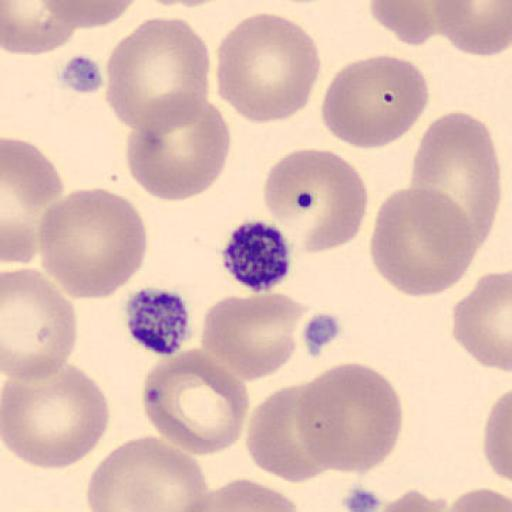Platelet: (218, 217, 293, 294), (122, 286, 195, 358)
RBC: (408, 109, 502, 252), (103, 15, 211, 135), (36, 186, 149, 300), (370, 183, 479, 298), (296, 360, 404, 475), (139, 346, 251, 456), (215, 12, 323, 126), (1, 362, 111, 470), (261, 147, 370, 255), (125, 92, 232, 202), (320, 53, 430, 150), (86, 434, 210, 512), (200, 292, 304, 382), (245, 382, 335, 484), (2, 267, 78, 382), (1, 135, 64, 268), (451, 268, 512, 372), (1, 136, 45, 266), (2, 136, 65, 215), (173, 476, 302, 512), (432, 0, 512, 58), (8, 0, 141, 34), (1, 0, 79, 56), (368, 0, 443, 47), (482, 386, 512, 486), (42, 0, 139, 30), (369, 486, 452, 512), (444, 486, 511, 512)
